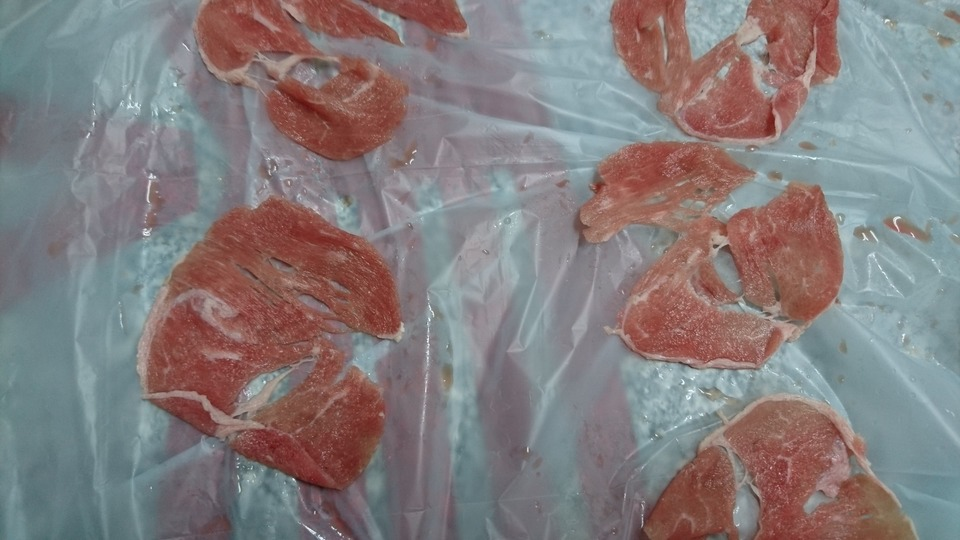restructured meat: (575, 153, 854, 385), (142, 214, 386, 479), (620, 390, 927, 540), (186, 3, 465, 158), (601, 6, 848, 148)
